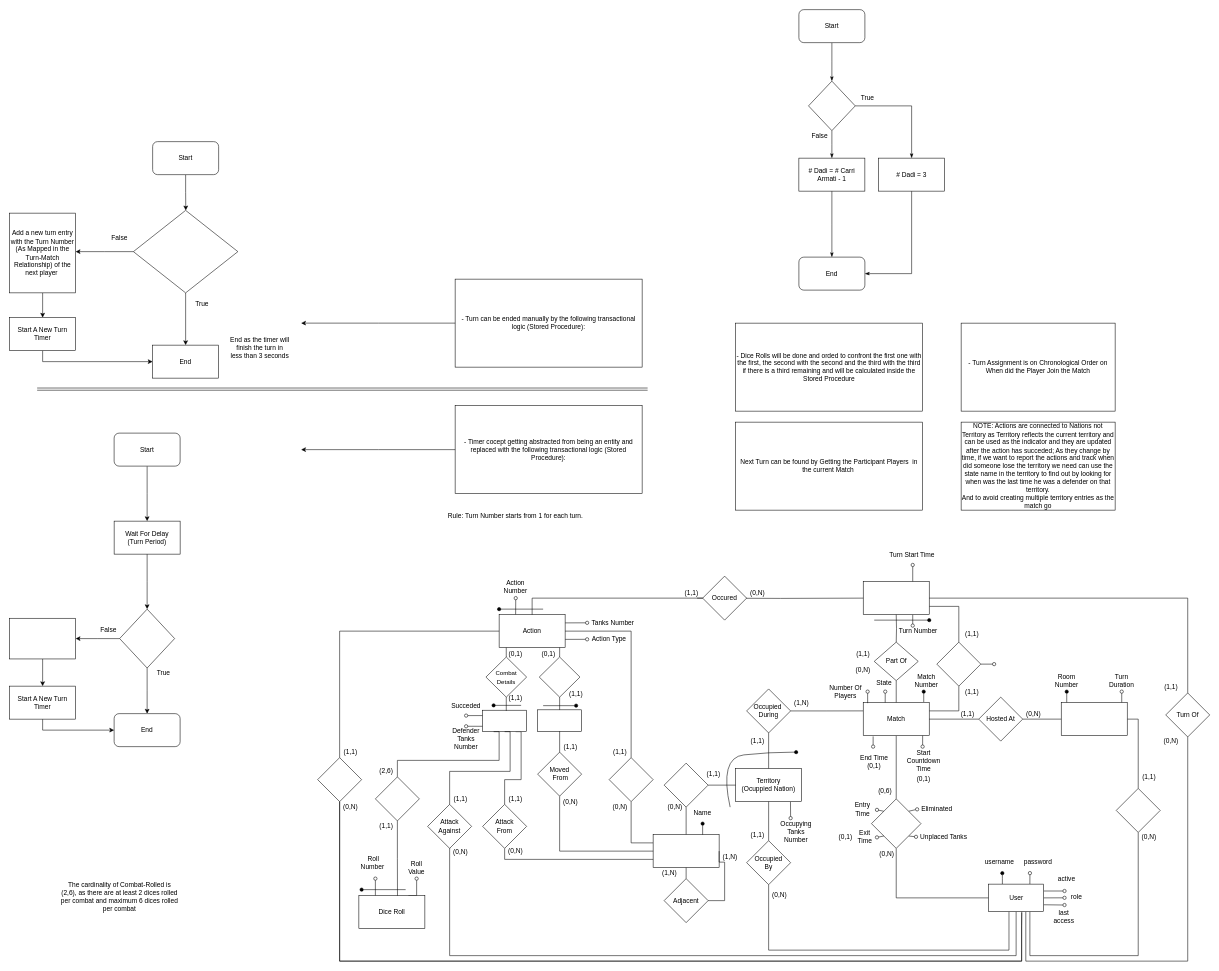
The diagram is 1219 pixels wide and 971 high, and some of its shapes have lost their labels. Here are the shapes that lost their labels. From the top down, the box of each, then its label:
(808, 81, 855, 131): # Carri Armati > 3
(133, 210, 238, 293): Is difference between start-time and timer delay (For the timer) is < 3
(863, 581, 929, 615): Turn
(9, 618, 76, 659): Create a new turn entry with the playerID of the next turn
(119, 609, 175, 668): Check if the turn was passed
(539, 656, 580, 697): Movement Details
(936, 642, 981, 686): Active Turn
(482, 710, 527, 732): Combat
(537, 709, 582, 731): Movement
(1061, 702, 1127, 736): Room
(317, 757, 362, 802): Performed By
(375, 776, 419, 821): Rolled
(609, 757, 653, 802): Performed Towards
(664, 763, 708, 807): Based On
(871, 798, 921, 848): Partecipating
(1116, 788, 1160, 832): Created
(653, 834, 719, 868): Nation
